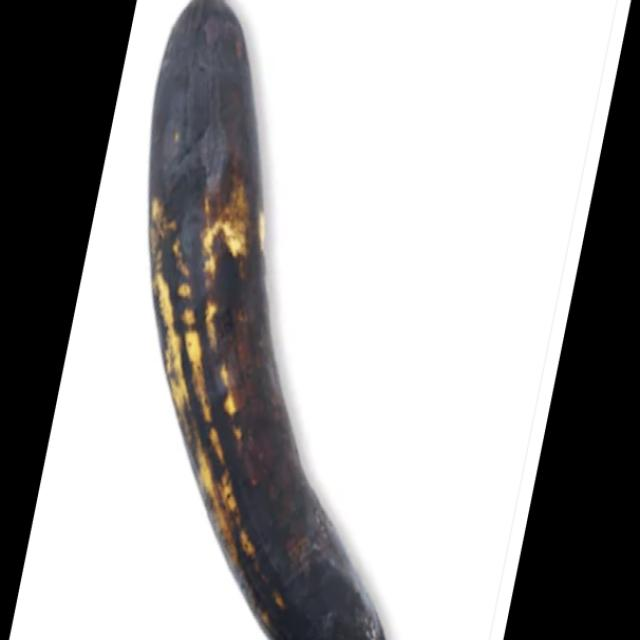Rotten: (146, 0, 384, 640)
